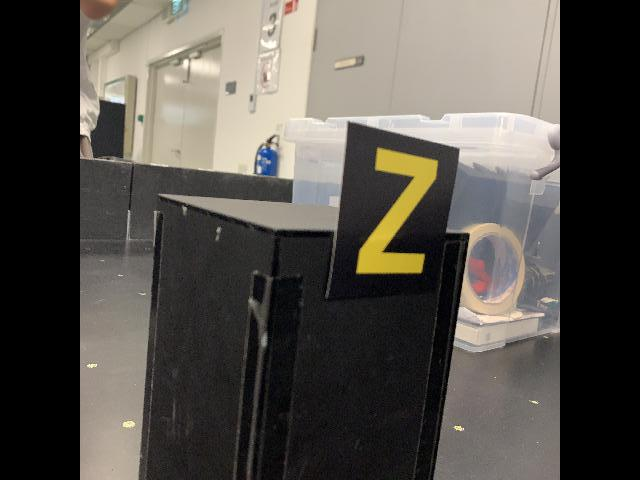alphabet_z: (321, 118, 461, 302)
